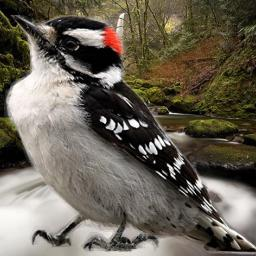Woodpecker: (4, 15, 256, 255)
